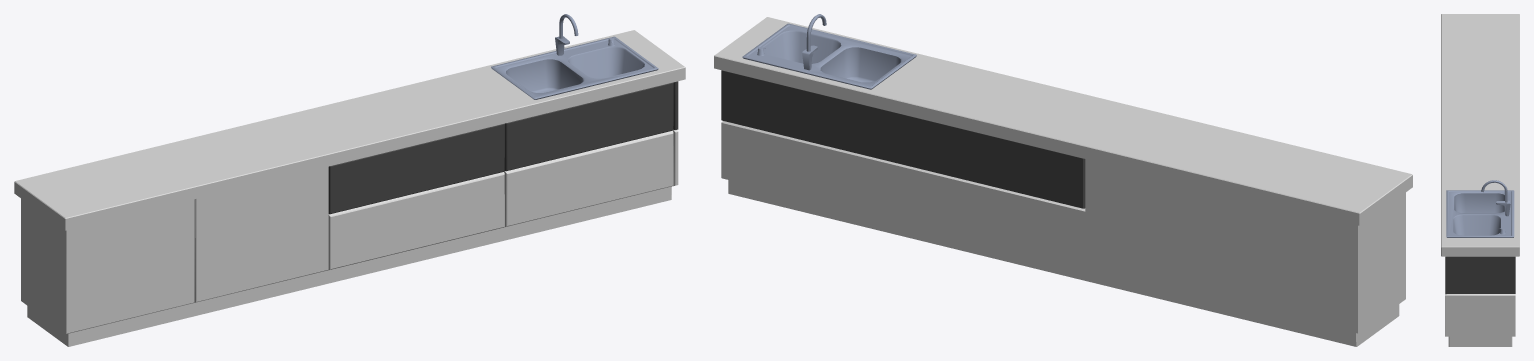
File: HAIERZTKG0503.FBX
3 views of the same model, side by side, from view 1: azimuth 30°, elevation 25°; view 2: azimuth 150°, elevation 25°; view 3: azimuth 270°, elevation 25° (orthographic). The views are drawn at different scales.
Parts seen in each view (by area): view 1: HAIERZTKG0503; view 2: HAIERZTKG0503; view 3: HAIERZTKG0503.
Boxes of the visible parts, x1,y1,x2,y2 form: HAIERZTKG0503: (14,14,685,346); HAIERZTKG0503: (714,14,1412,346); HAIERZTKG0503: (1441,14,1519,346).
Size of the model in its own units: 420 by 60 by 117.
